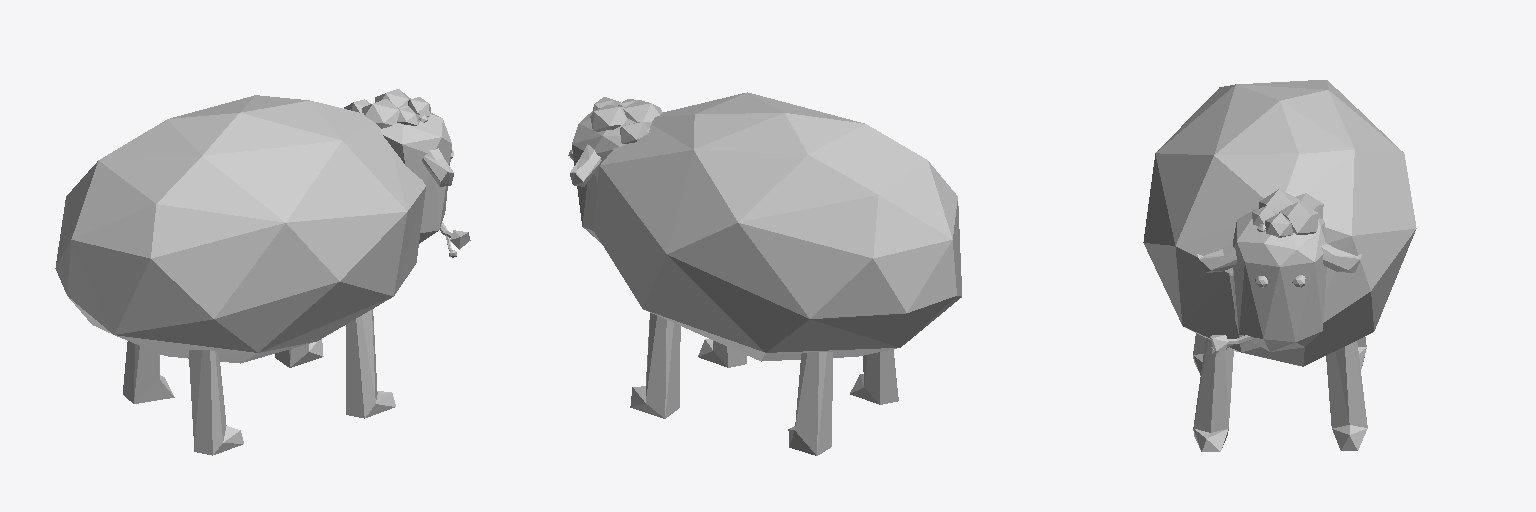
Rendered from uprightSheep.obj.
The picture shows the model from 3 angles: view 1: azimuth 30°, elevation 25°; view 2: azimuth 150°, elevation 25°; view 3: azimuth 270°, elevation 25°; orthographic projection.
Visible parts, largest first — view 1: Icosphere.003; view 2: Icosphere.003; view 3: Icosphere.003.
Part boxes in pixels (x1,y1,x2,y2): Icosphere.003: (55,89,470,455); Icosphere.003: (568,92,961,455); Icosphere.003: (1143,80,1416,451).
Size of the model in its own units: 1.82 by 1.36 by 1.14.